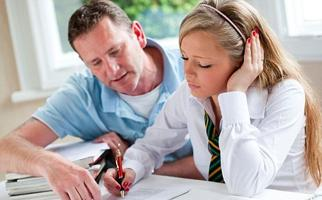person: (103, 2, 321, 199)
